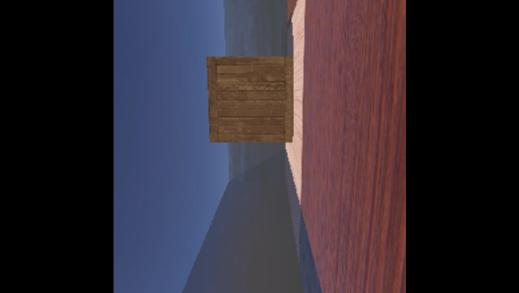WoodenBox: (199, 38, 302, 154)
